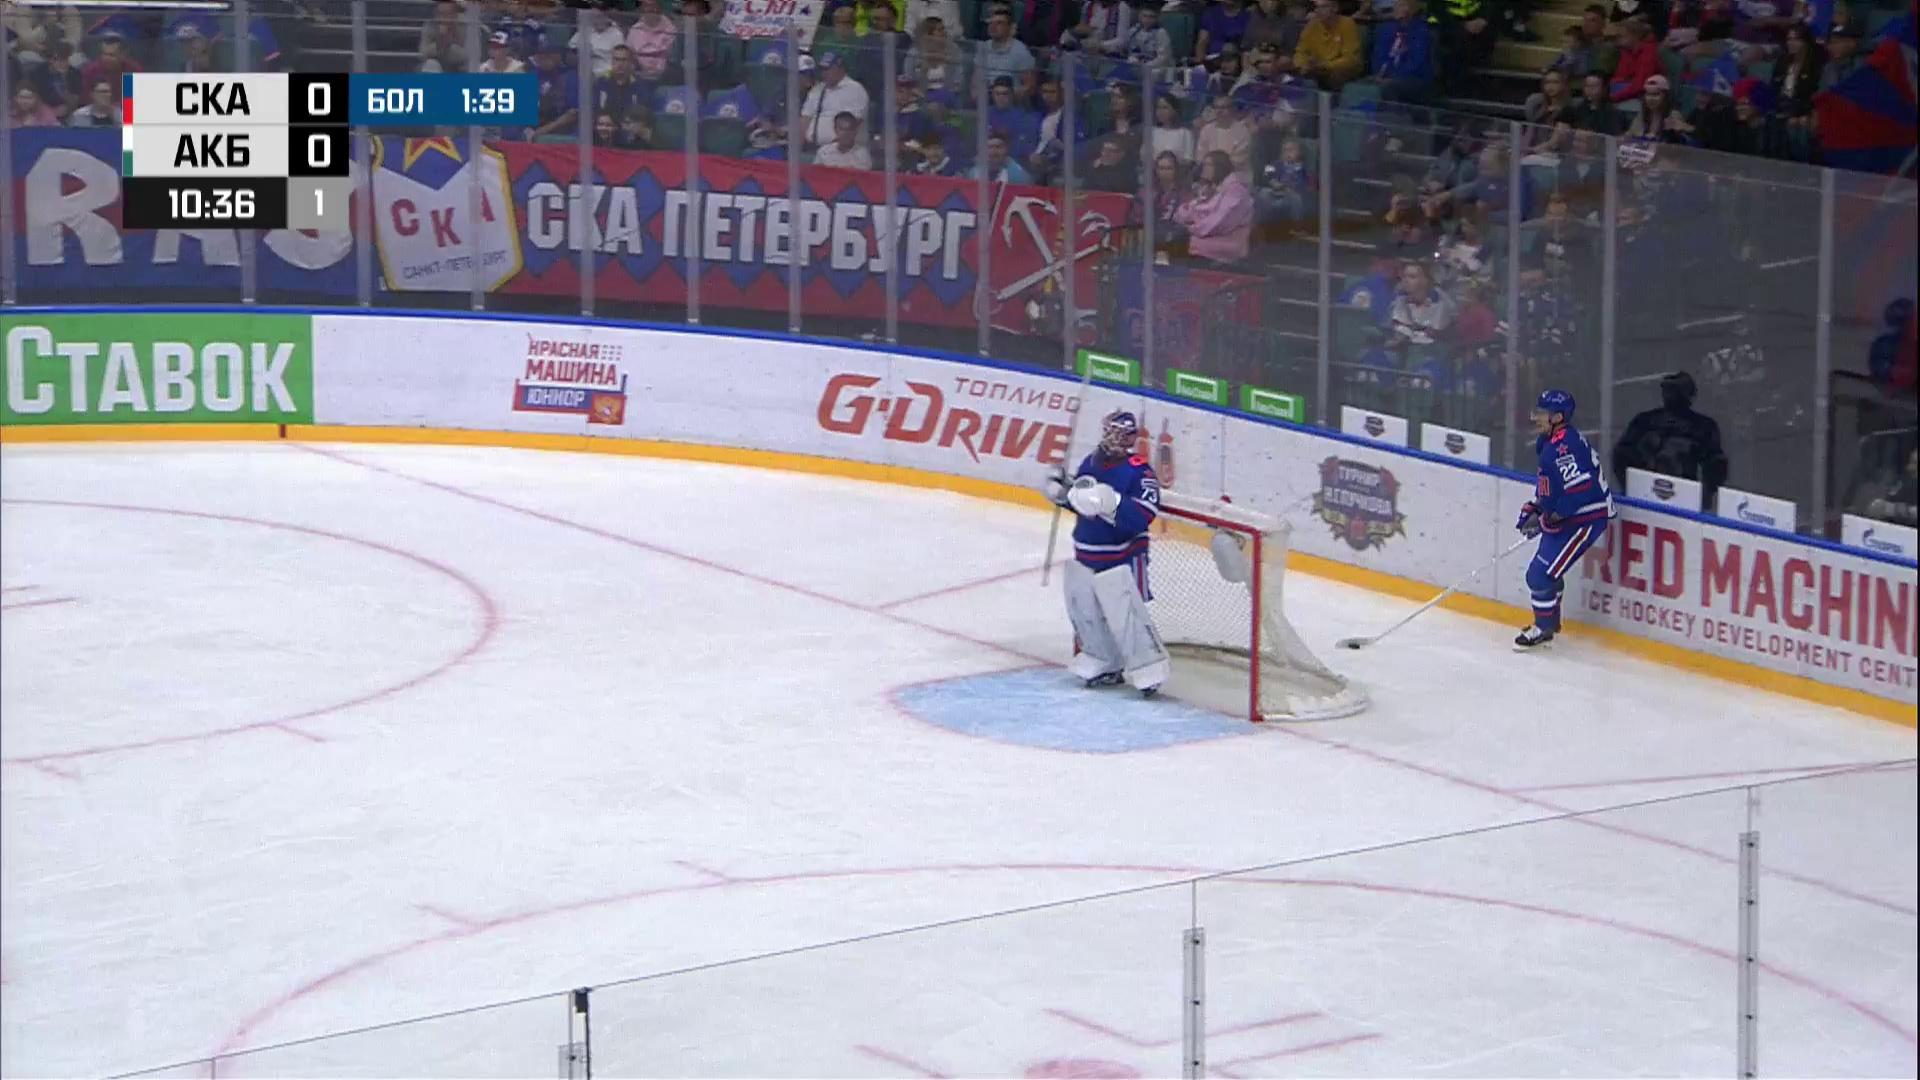ball: (1349, 644, 1361, 650)
